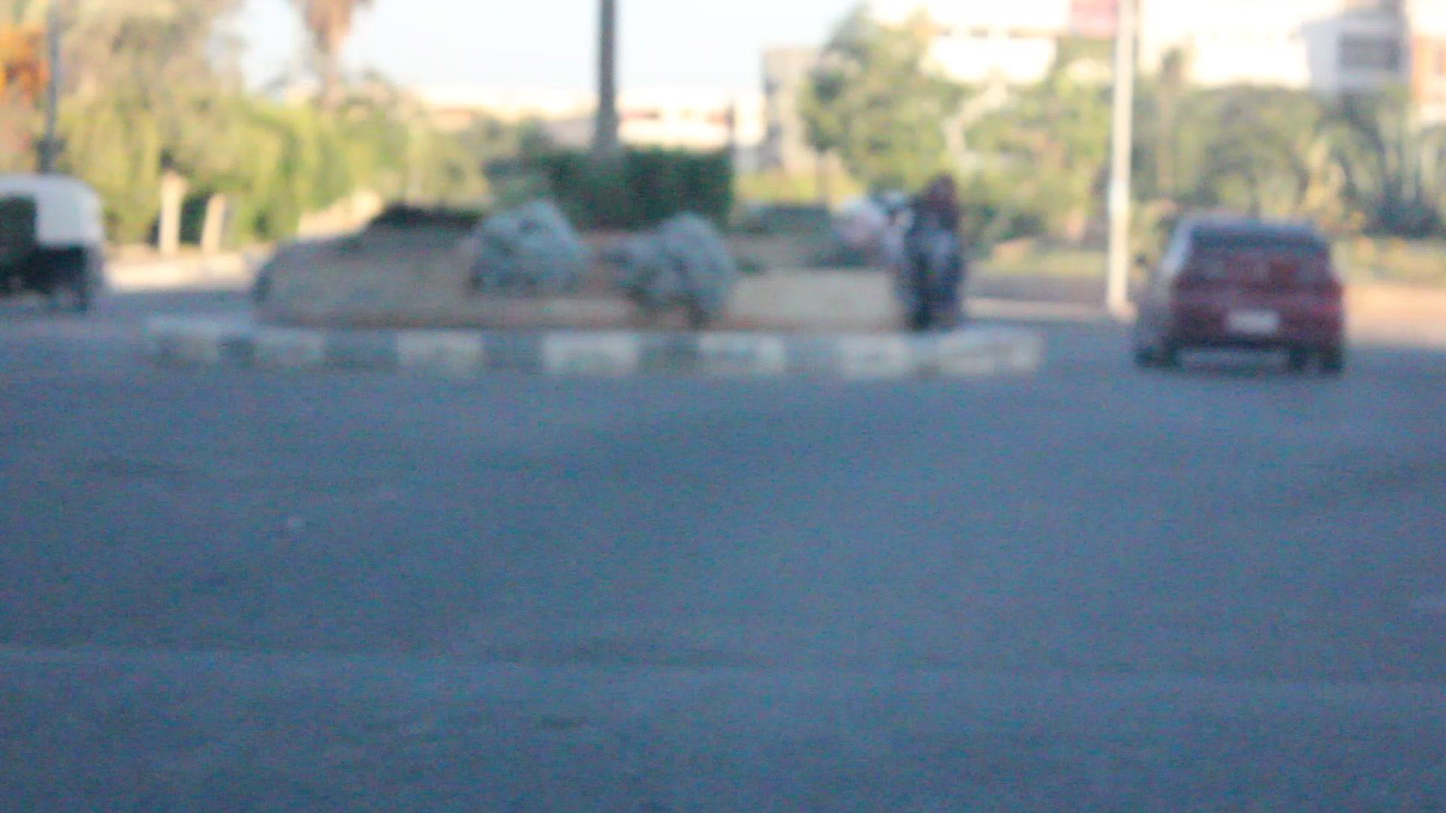Bump: (9, 644, 1446, 813)
